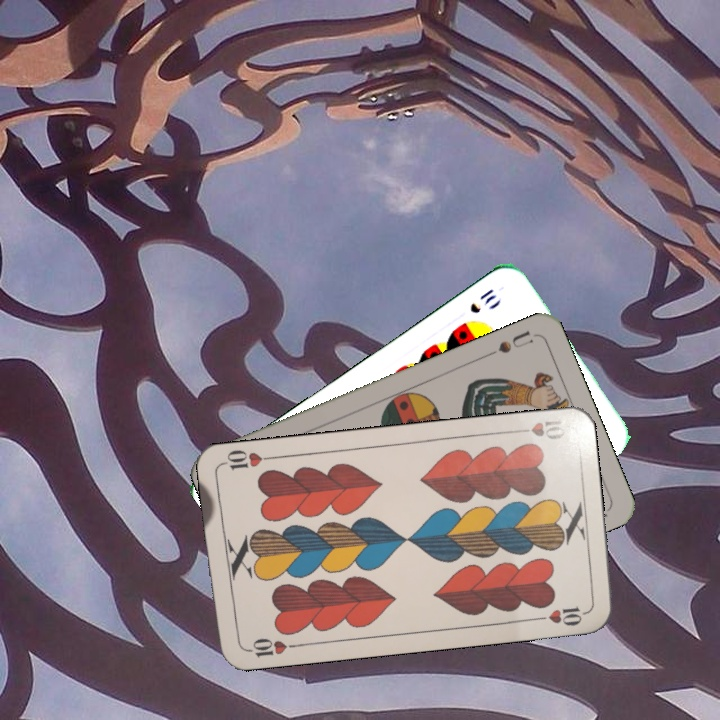H10: (509, 414, 568, 442), (241, 634, 300, 661)
S10: (465, 284, 500, 316)
SU: (481, 326, 538, 360)
